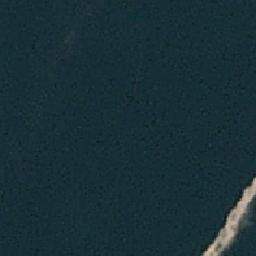debris: (201, 233, 238, 255), (233, 178, 256, 208), (220, 209, 248, 232)
